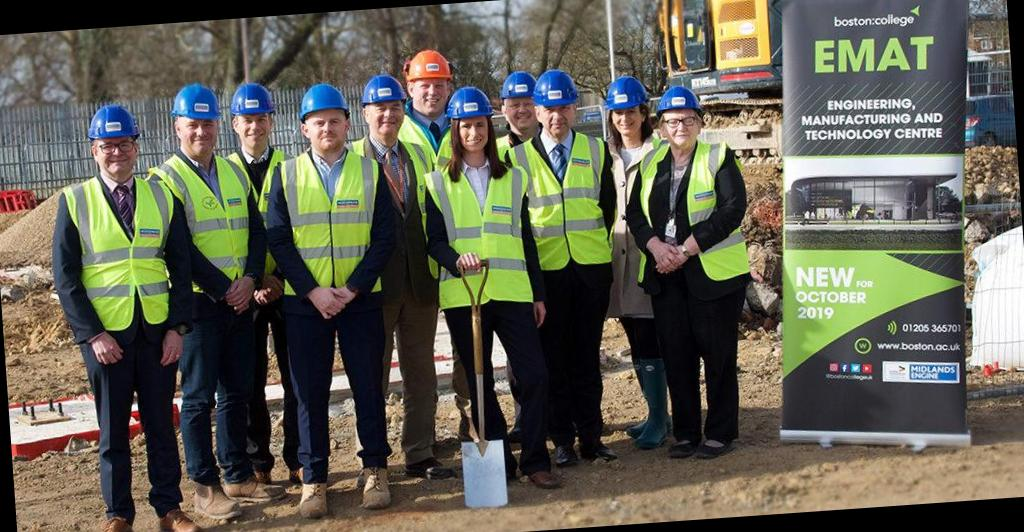Helmet: (164, 77, 224, 134), (80, 101, 146, 150), (530, 64, 584, 116), (645, 74, 703, 122), (595, 72, 651, 121), (292, 78, 352, 121), (441, 82, 497, 128), (352, 74, 407, 116), (492, 61, 538, 109), (394, 50, 444, 94), (228, 85, 273, 122)
Vest: (48, 168, 196, 346), (423, 148, 543, 328), (160, 149, 278, 329), (284, 132, 388, 314), (644, 144, 744, 301), (527, 128, 619, 279)
